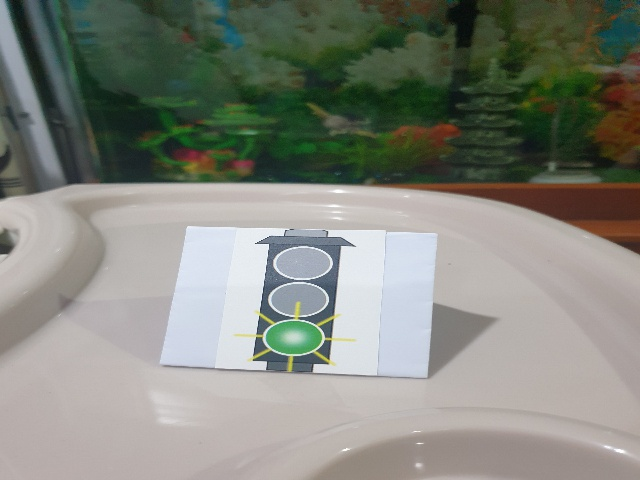Green Light: (244, 228, 356, 372)
